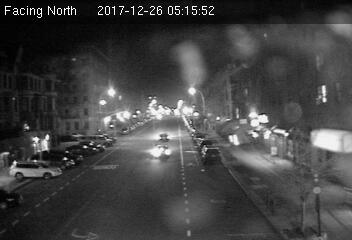car: (198, 144, 223, 161), (151, 145, 172, 159), (155, 133, 172, 142)
